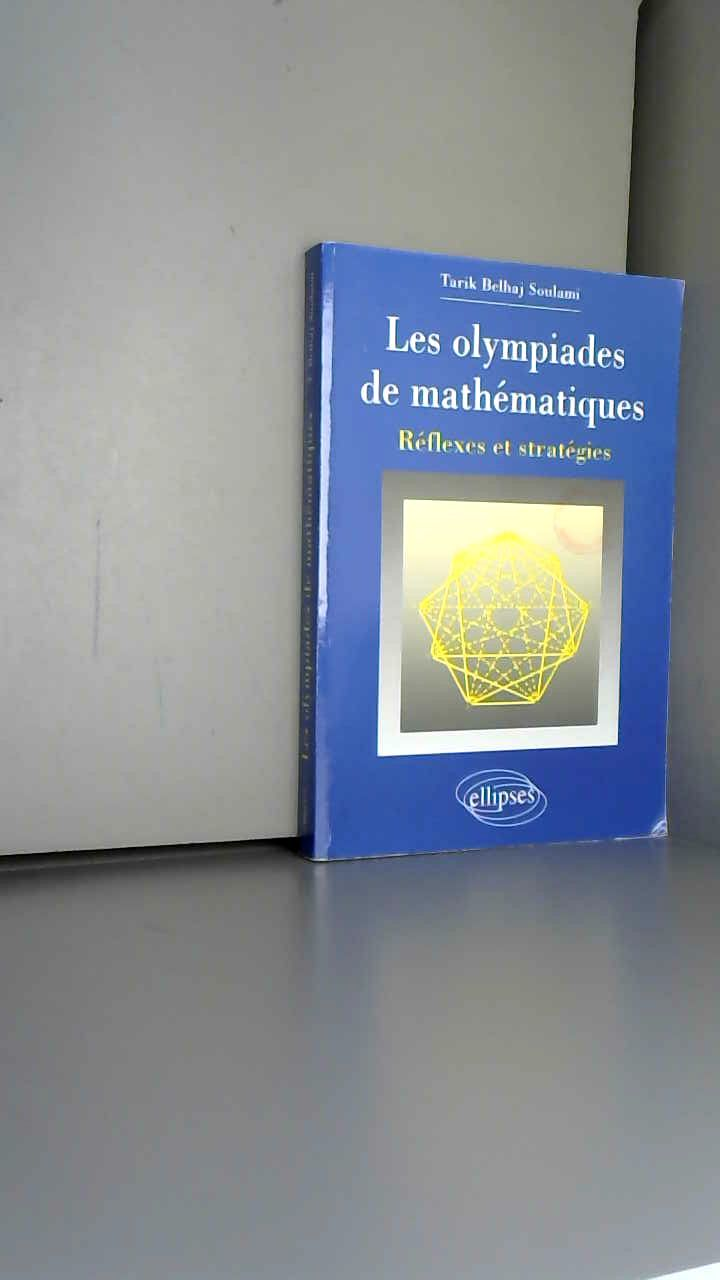book: (270, 210, 719, 877)
